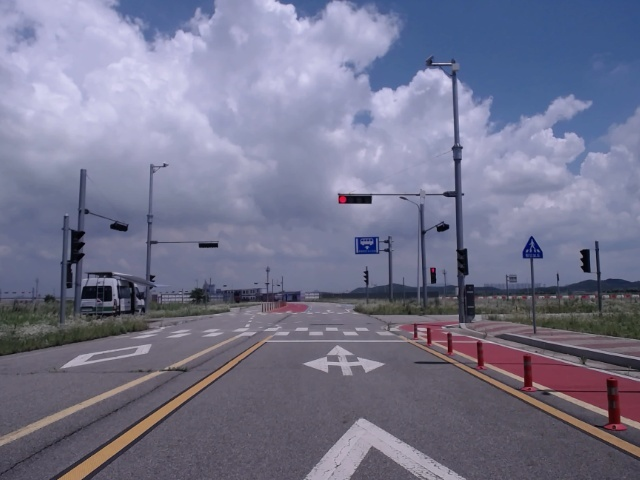red_4: (339, 196, 371, 204)
